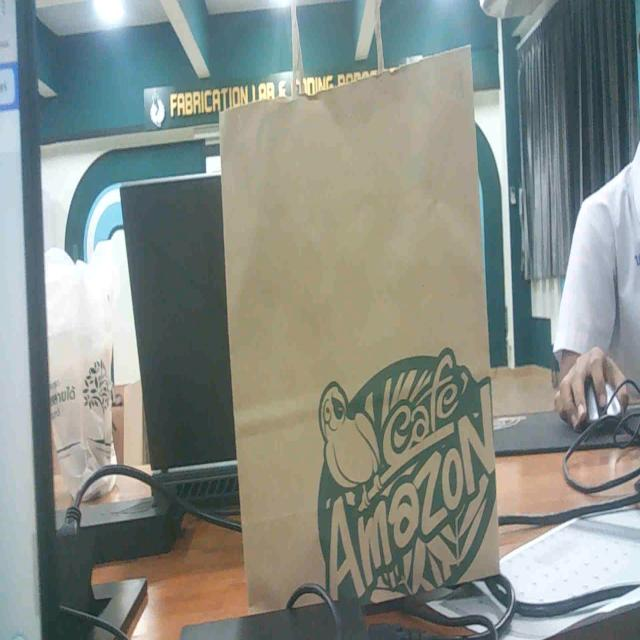bag: (215, 60, 521, 606)
